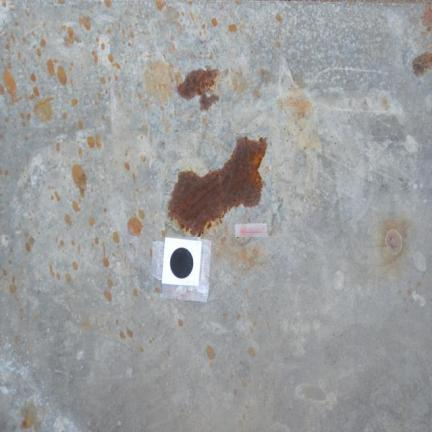besi_tidak_karat: (0, 4, 431, 431)
karat: (169, 137, 267, 236)
